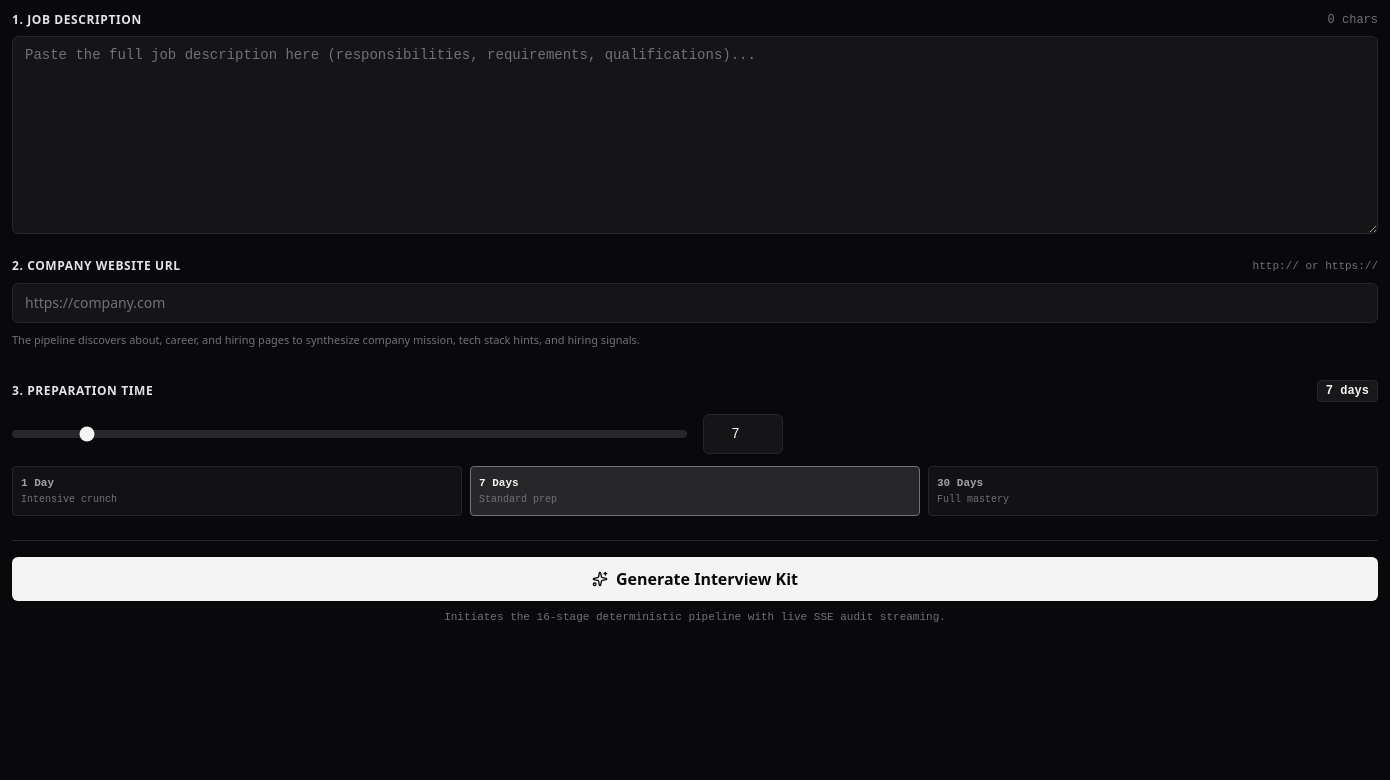
it: CreateKitForm › validates required fields before submitting
Step 1. Click the button "Generate Interview Kit" → (695, 579), box [12,557,1378,601]
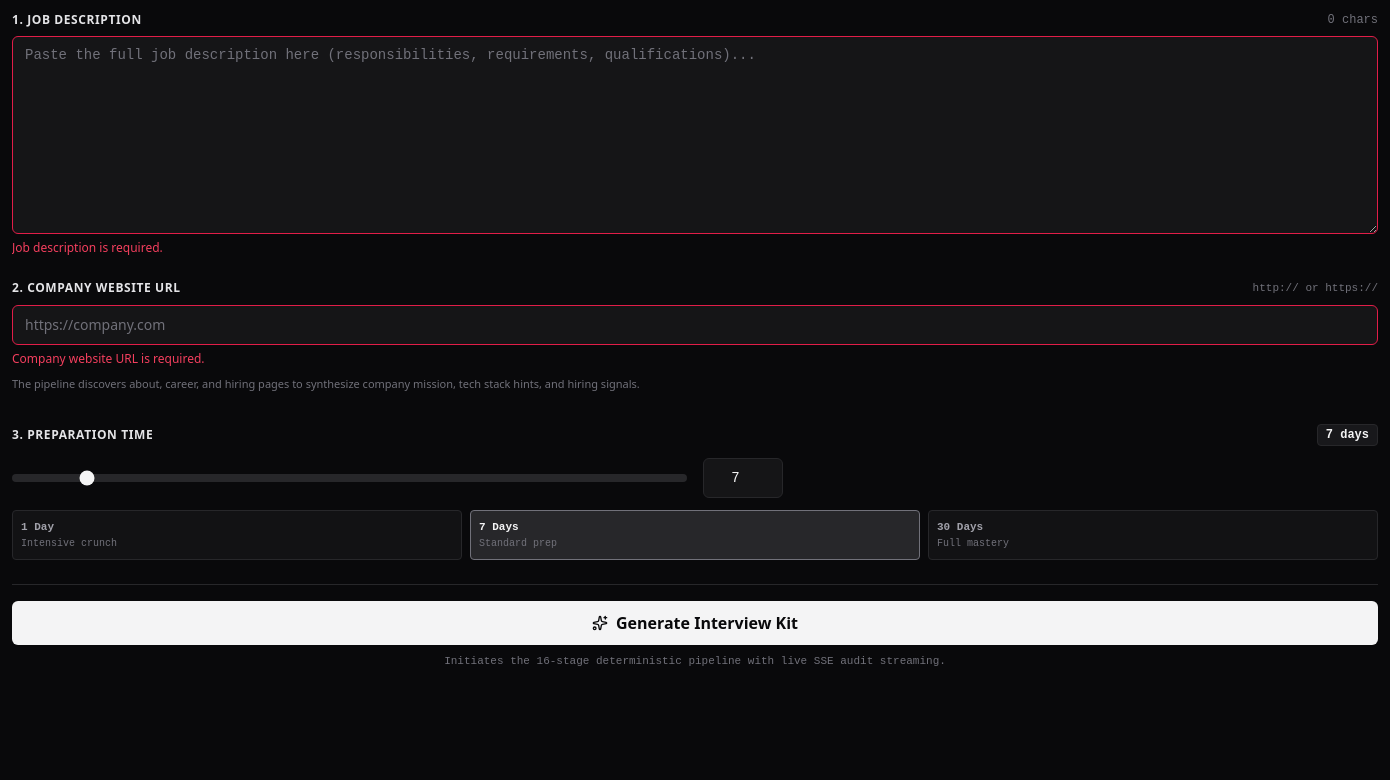
Now the text "Job description is required." is shown, box [12,239,163,256]
Now the text "Company website URL is required." is shown, box [12,350,204,366]
